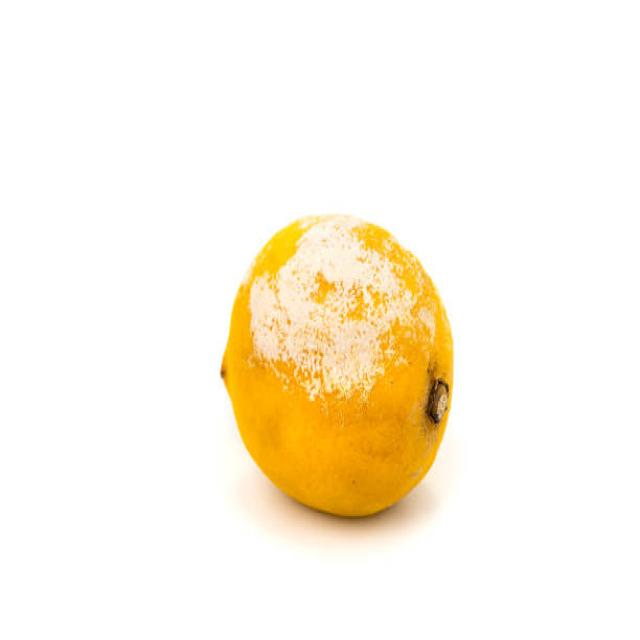Rotten: (220, 211, 455, 518)
